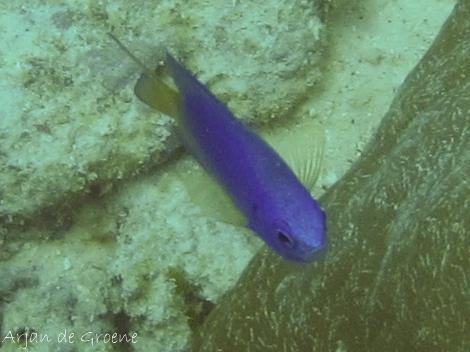Fish: (108, 33, 342, 271)
